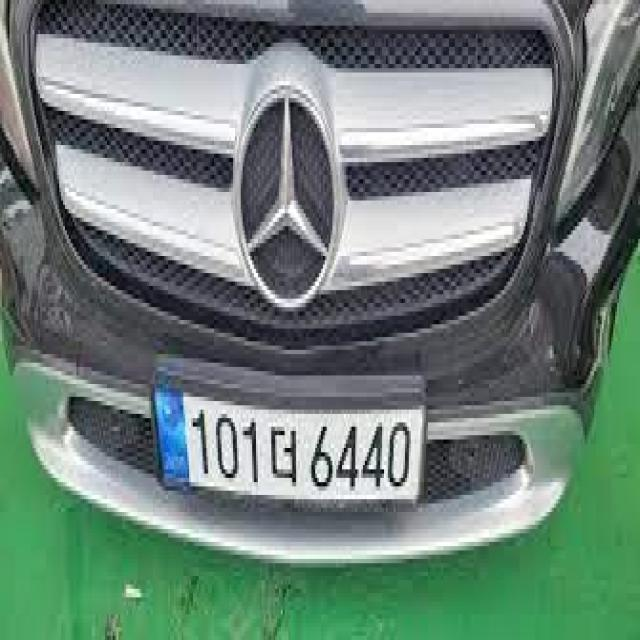illegal_plate: (158, 385, 426, 516)
